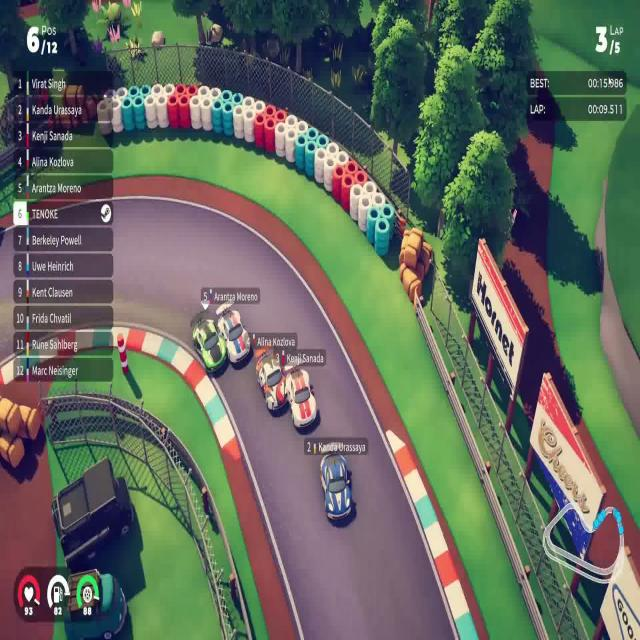car: (319, 450, 353, 523), (215, 301, 251, 366), (254, 346, 288, 414), (191, 316, 227, 374), (285, 365, 317, 430)
